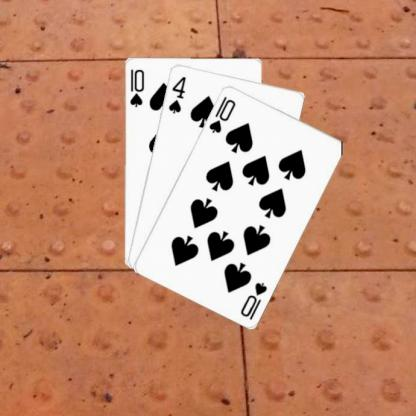10S: (238, 278, 268, 321), (206, 93, 237, 134), (127, 66, 144, 108)
4S: (165, 73, 187, 115)
